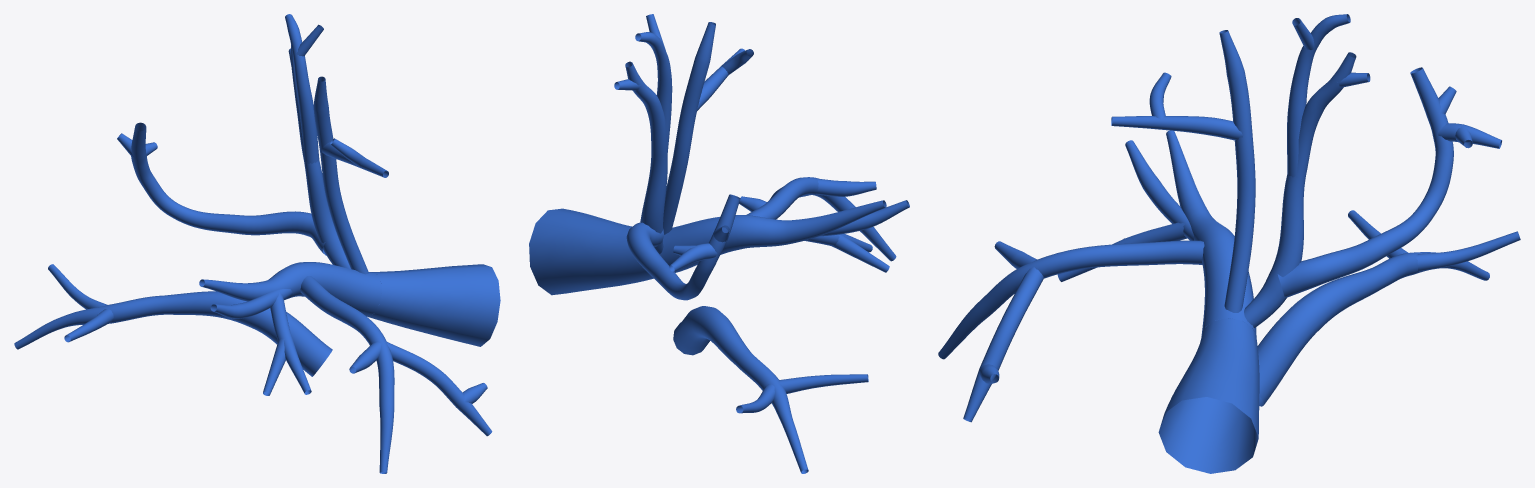
File: circulatorio-superior-lobar-artery-of-right-lung.glb
3 renders of one model, left to right at view 1: azimuth 30°, elevation 25°; view 2: azimuth 150°, elevation 25°; view 3: azimuth 270°, elevation 25°, orthographic. The views are drawn at different scales.
Visible parts, largest first — view 1: Anterior segmental artery of right lung, Apical segmental artery of right lung, Superior lobar artery of right lung, Posterior segmental artery of right lung; view 2: Apical segmental artery of right lung, Anterior segmental artery of right lung, Superior lobar artery of right lung, Posterior segmental artery of right lung; view 3: Apical segmental artery of right lung, Anterior segmental artery of right lung, Superior lobar artery of right lung, Posterior segmental artery of right lung.
Part boxes in pixels (x1,y1,x2,y2): Anterior segmental artery of right lung: (199, 262, 492, 473); Apical segmental artery of right lung: (117, 14, 388, 274); Superior lobar artery of right lung: (367, 264, 500, 346); Posterior segmental artery of right lung: (14, 264, 332, 376); Apical segmental artery of right lung: (614, 14, 753, 300); Anterior segmental artery of right lung: (660, 177, 909, 272); Superior lobar artery of right lung: (529, 208, 653, 295); Posterior segmental artery of right lung: (673, 306, 868, 473); Apical segmental artery of right lung: (1111, 14, 1501, 328); Anterior segmental artery of right lung: (938, 130, 1256, 422); Superior lobar artery of right lung: (1158, 318, 1259, 473); Posterior segmental artery of right lung: (1257, 210, 1520, 406).
Size of the model in its own units: 0.1113 by 0.0961 by 0.1266.
